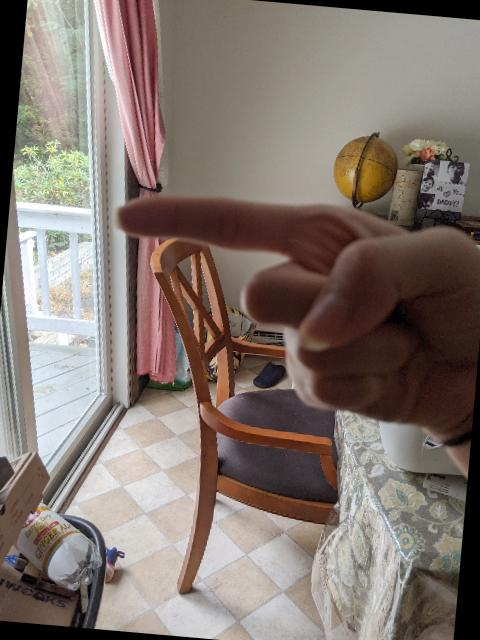G: (84, 179, 480, 441)
